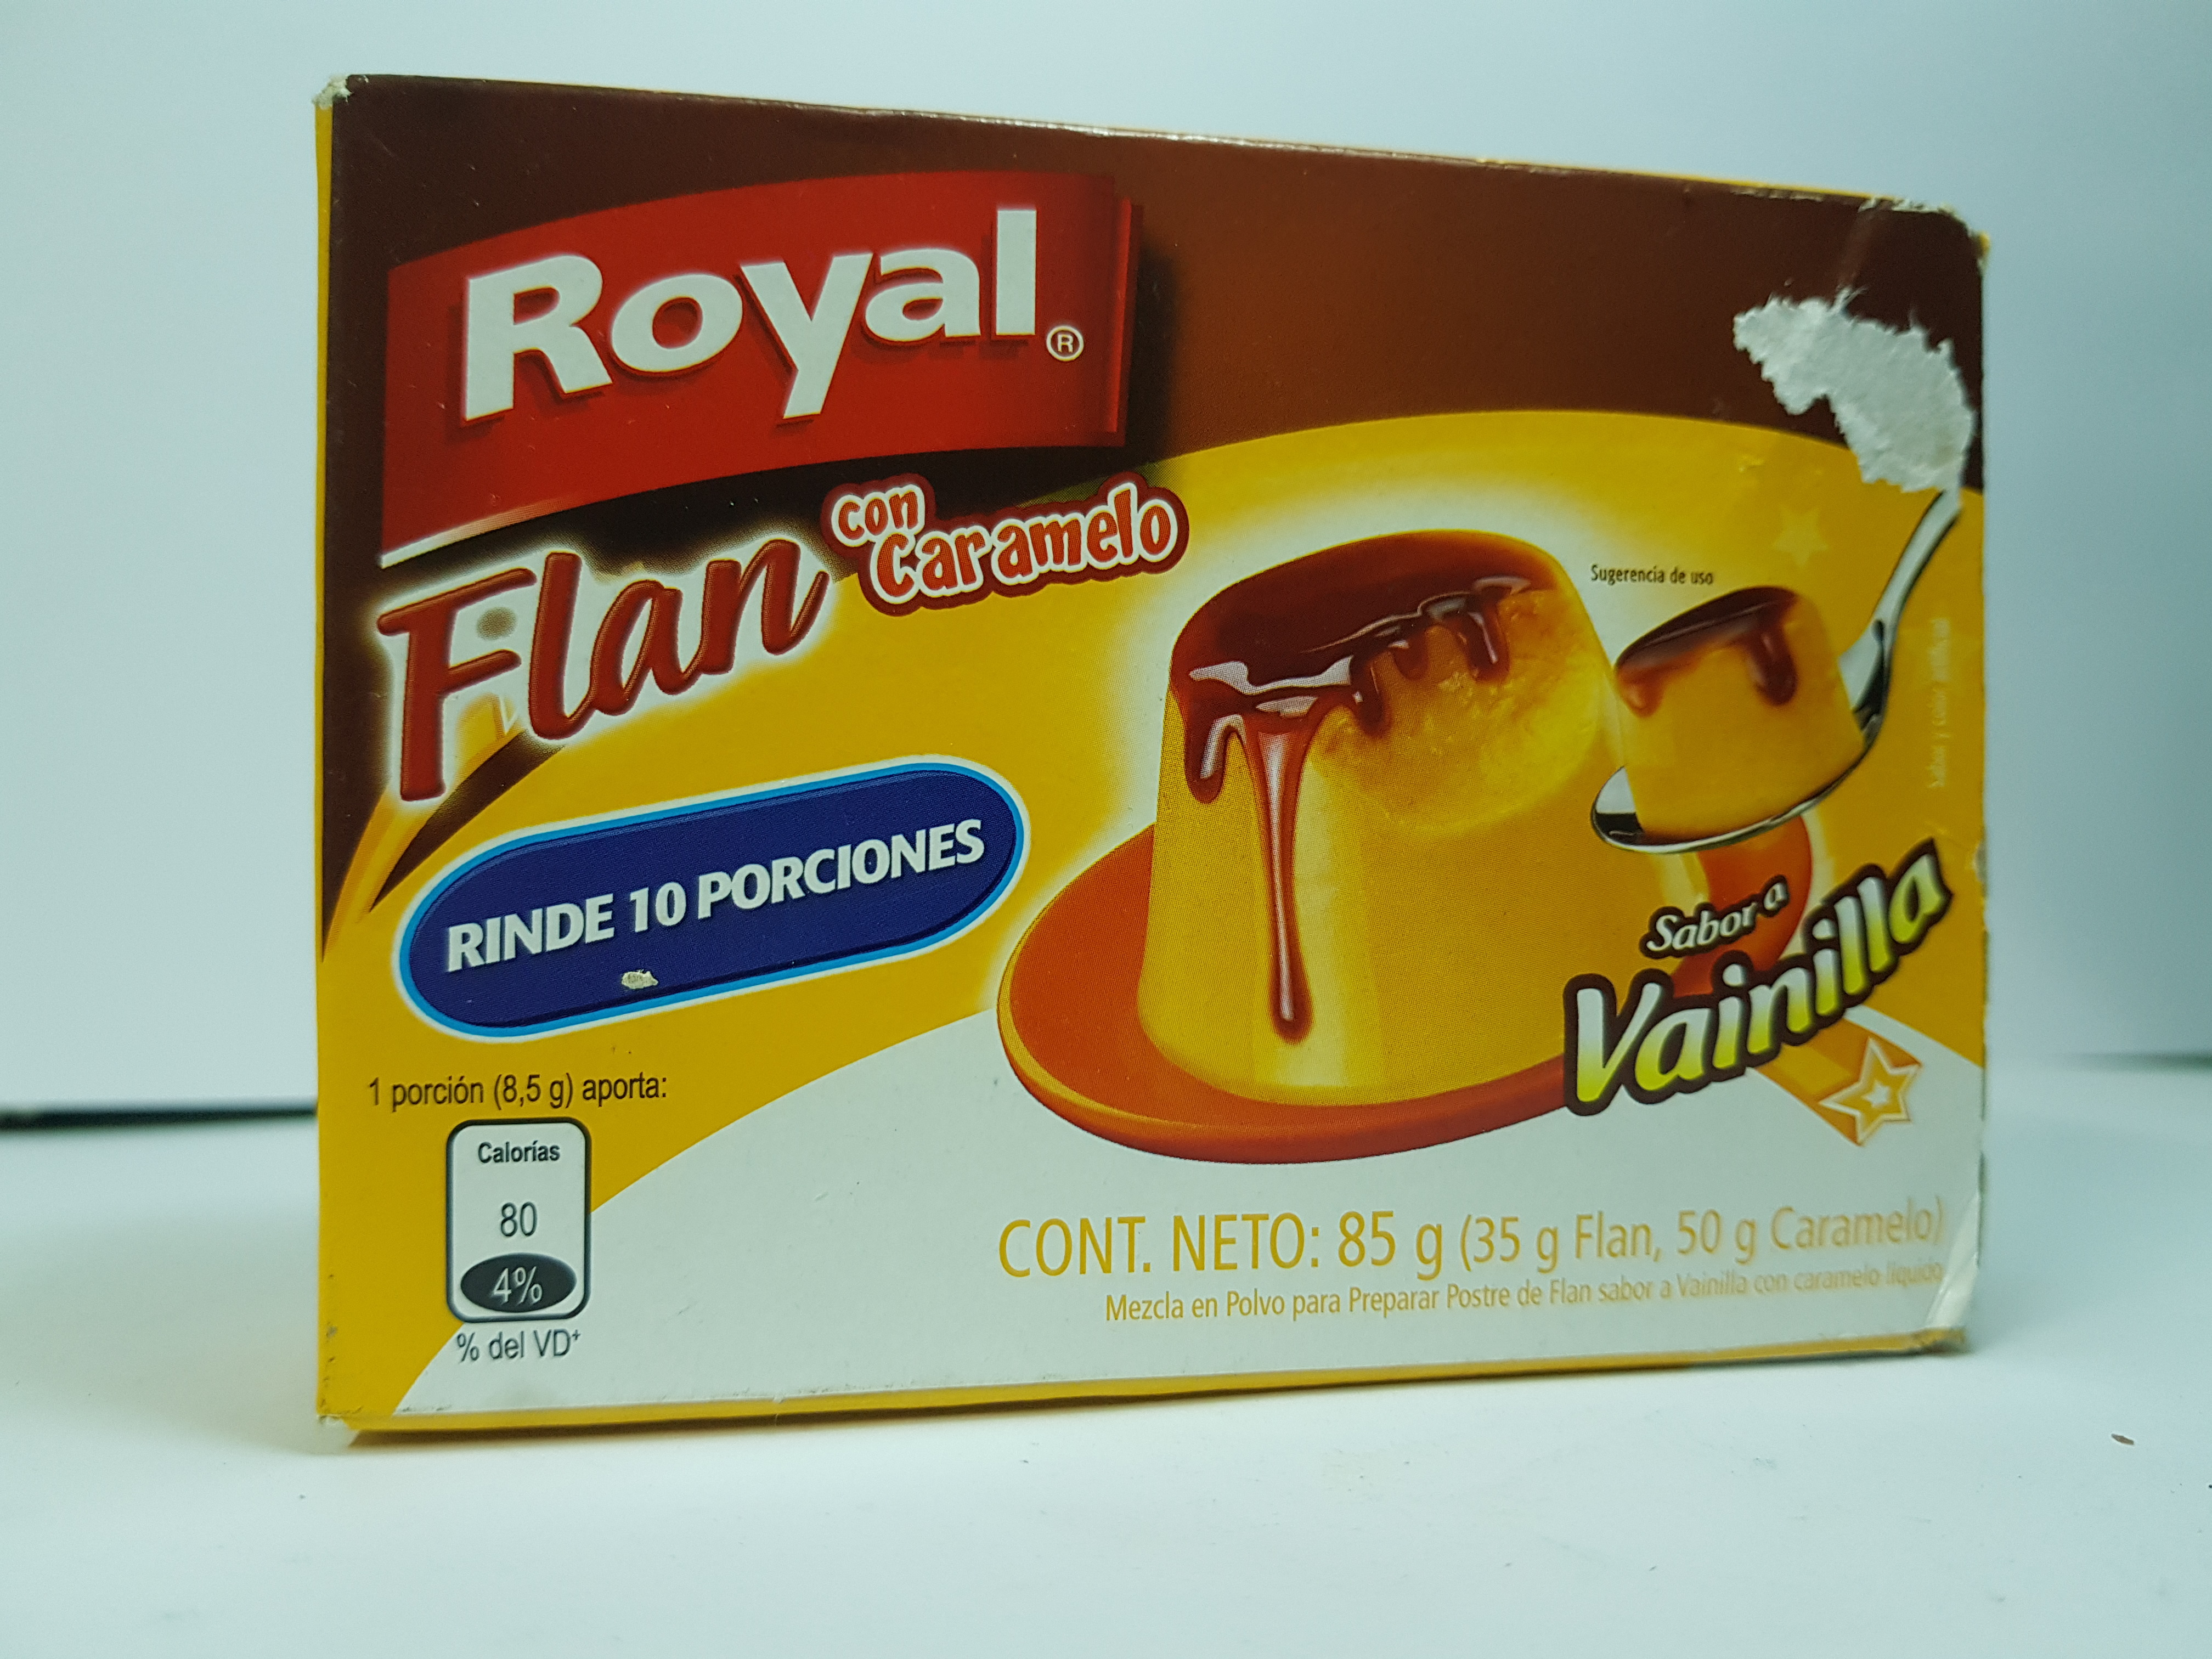flan: (265, 40, 2048, 1460)
